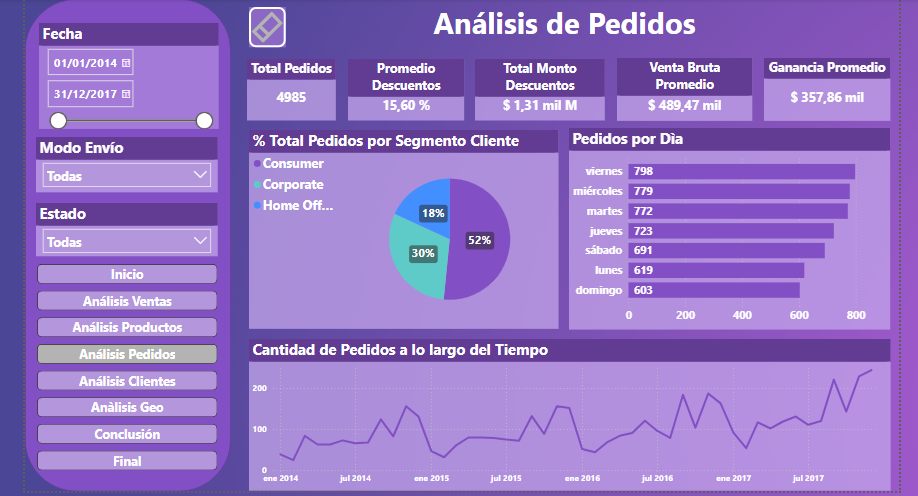

Layout of this report page (visuals, bound fields, positions):
{"tool":"powerbi","page":{"name":"Análisis Pedidos","canvas":[1280,720],"ordinal":3},"visuals":[{"type":"shape","box":[0,0,301.2,720.6],"z":0},{"type":"pageNavigator","box":[17,387.4,264.6,302.4],"z":1000},{"type":"slicer","title":"Fecha","fields":{"Values":["Calendario.Fecha"]},"box":[20,35,263.3,155],"z":2000},{"type":"slicer","title":"Estado","fields":{"Values":["Geo.Estado"]},"box":[16.2,297.9,265.6,77.7],"z":3000},{"type":"textbox","box":[325.5,0,929.4,71.2],"z":4000},{"type":"card","title":"Total Pedidos","fields":{"Values":["Medidas.Total_Pedidos_Ventas"]},"box":[325,88.3,130,90],"z":5000},{"type":"card","title":"Promedio Descuentos","fields":{"Values":["Medidas.Promedio_Descuentos"]},"box":[472.1,88.3,170,90],"z":6000},{"type":"card","title":"Total Monto Descuentos","fields":{"Values":["Medidas.Total_Montos_Descuentos"]},"box":[659.2,88.3,190,90],"z":7000},{"type":"card","title":"Venta Bruta Promedio","fields":{"Values":["Medidas.Promedio_Venta_Bruta"]},"box":[866.3,86.7,198.3,91.7],"z":8000},{"type":"card","title":"Ganancia Promedio","fields":{"Values":["Medidas.Promedio_Ganancia"]},"box":[1081.7,86.7,185,91.7],"z":9000},{"type":"lineChart","title":"Cantidad de Pedidos a lo largo del Tiempo","fields":{"Category":["Calendario.Fecha.Variación.Jerarquía de fechas.Año","Calendario.Fecha.Variación.Jerarquía de fechas.Trimestre","Calendario.Fecha.Variación.Jerarquía de fechas.Mes"],"Y":["Medidas.Total_Pedidos"]},"box":[327.3,497.9,938.9,222.2],"z":10000},{"type":"barChart","title":"Pedidos por Dìa","fields":{"Category":["Calendario.dddd"],"Y":["Medidas.Total_Pedidos"]},"box":[795.9,189.5,470.3,294.6],"z":11000},{"type":"pieChart","title":"% Total Pedidos por Segmento Cliente","fields":{"Category":["Clientes.Segmento_Cliente"],"Y":["Medidas.Porcentaje_Total_Pedidos"]},"box":[327.1,191.1,453.4,291.5],"z":12000},{"type":"slicer","title":"Modo Envío","fields":{"Values":["Pedidos.Modo_Envio"]},"box":[16.2,202.4,265.6,81],"z":13000},{"type":"actionButton","box":[327.8,12.1,53.8,59],"z":14000}]}

Visuals, with their boxes on the page's 1280x720 design canvas (x1, y1, x2, y2). These are canvas units, not pixel positions in the 918x496 screenshot, which may show the page scaled, cropped or inside an application window:
shape: select_region(0, 0, 301, 721)
pageNavigator: select_region(17, 387, 282, 690)
"Fecha" slicer: select_region(20, 35, 283, 190)
"Estado" slicer: select_region(16, 298, 282, 376)
textbox: select_region(326, 0, 1255, 71)
"Total Pedidos" card: select_region(325, 88, 455, 178)
"Promedio Descuentos" card: select_region(472, 88, 642, 178)
"Total Monto Descuentos" card: select_region(659, 88, 849, 178)
"Venta Bruta Promedio" card: select_region(866, 87, 1065, 178)
"Ganancia Promedio" card: select_region(1082, 87, 1267, 178)
"Cantidad de Pedidos a lo largo del Tiempo" lineChart: select_region(327, 498, 1266, 720)
"Pedidos por Dìa" barChart: select_region(796, 190, 1266, 484)
"% Total Pedidos por Segmento Cliente" pieChart: select_region(327, 191, 780, 483)
"Modo Envío" slicer: select_region(16, 202, 282, 283)
actionButton: select_region(328, 12, 382, 71)
